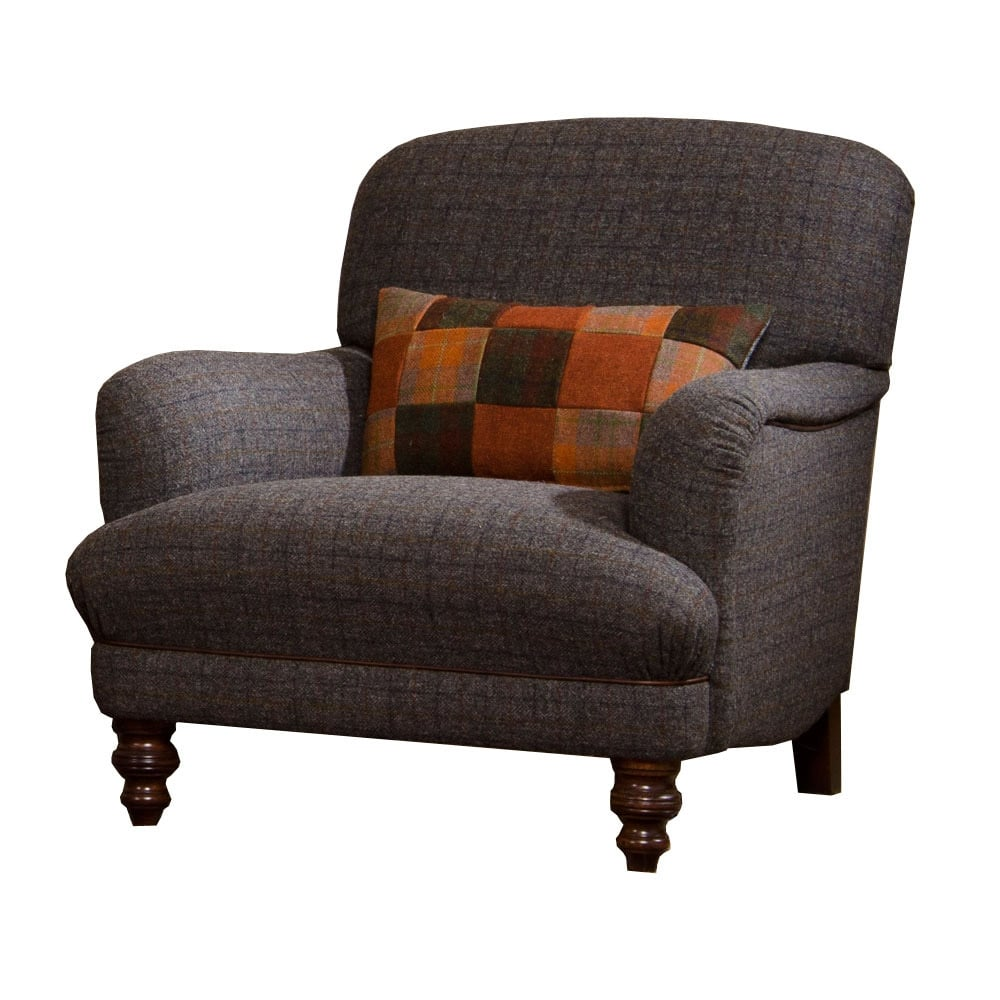chairs: (54, 72, 917, 881)
